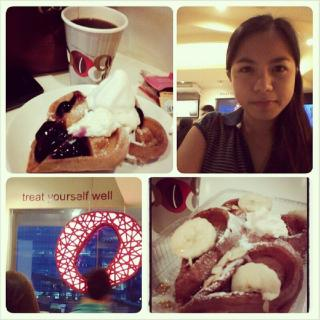Ice cream: (168, 191, 310, 316), (33, 74, 159, 178)
